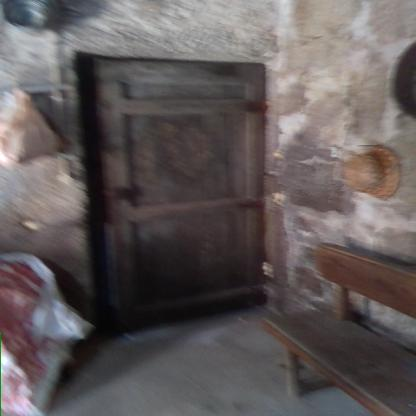closed: (74, 35, 289, 336)
